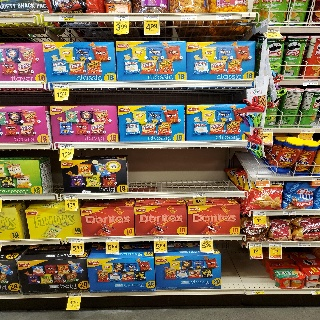All PRICE TAGS: (60, 15, 75, 21), (304, 80, 318, 86), (114, 16, 130, 21), (216, 15, 232, 20), (267, 27, 280, 33), (181, 15, 196, 20), (54, 83, 69, 88), (59, 143, 74, 148), (253, 211, 266, 216), (106, 237, 119, 242), (69, 292, 82, 297), (71, 238, 84, 243), (144, 16, 159, 20), (251, 290, 265, 294), (298, 243, 311, 247), (269, 243, 282, 247), (249, 243, 262, 247), (154, 237, 167, 241), (200, 236, 213, 240), (65, 195, 78, 199), (193, 193, 206, 197), (283, 211, 295, 215), (256, 178, 270, 181), (263, 129, 273, 133), (310, 290, 320, 294), (312, 178, 320, 181)
